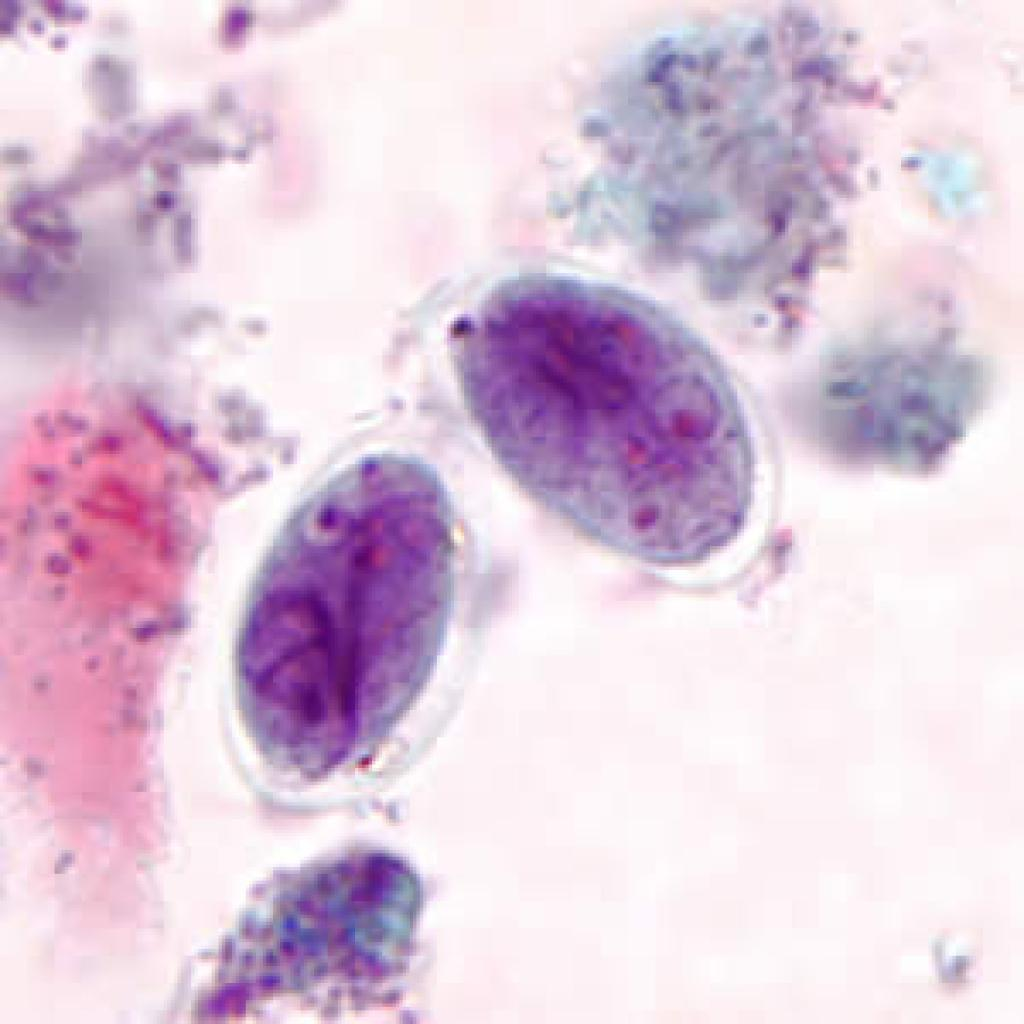Giardia: (430, 249, 778, 591), (218, 444, 478, 816)
